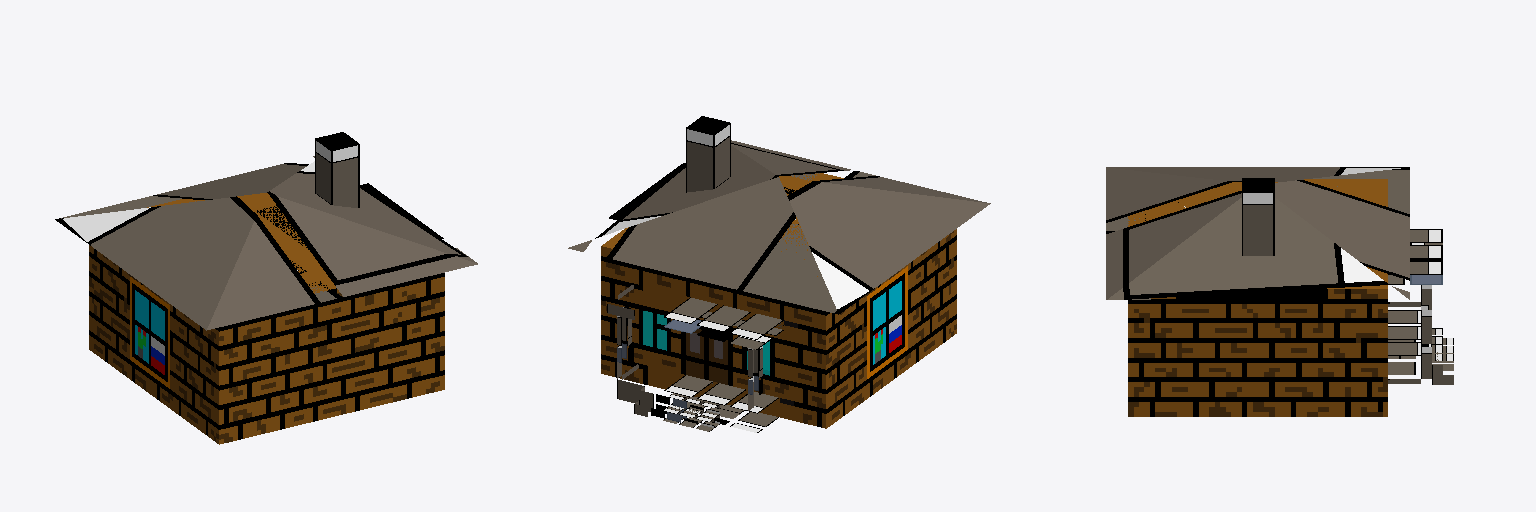
3 views of the same model, side by side, from view 1: azimuth 30°, elevation 25°; view 2: azimuth 150°, elevation 25°; view 3: azimuth 270°, elevation 25° (orthographic).
Visible parts, largest first — view 1: cuboid, s; view 2: cuboid, s; view 3: cuboid, s.
Part boxes in pixels (x1,y1,x2,y2): cuboid: (89, 132, 444, 444); s: (55, 156, 477, 330); cuboid: (601, 116, 956, 432); s: (568, 140, 990, 314); cuboid: (1128, 178, 1453, 416); s: (1106, 167, 1409, 299).
Size of the model in its own units: 3.62 by 2.69 by 4.
Materials: 7 (2 with a texture image).